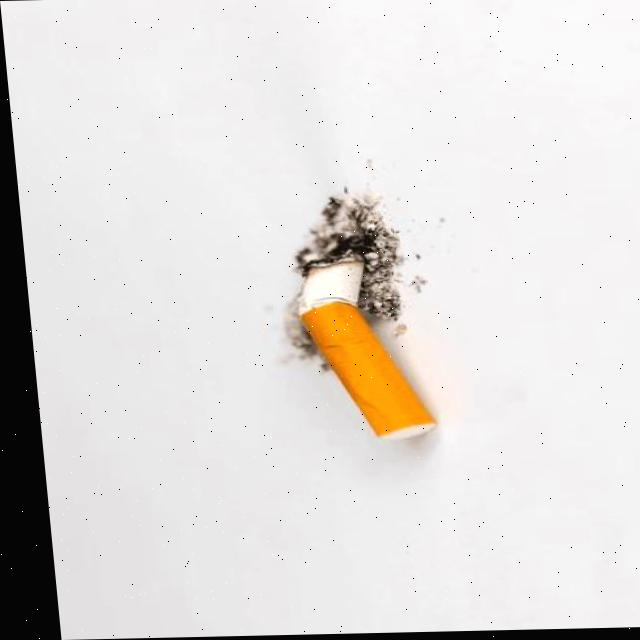cigarette: (298, 252, 440, 438)
